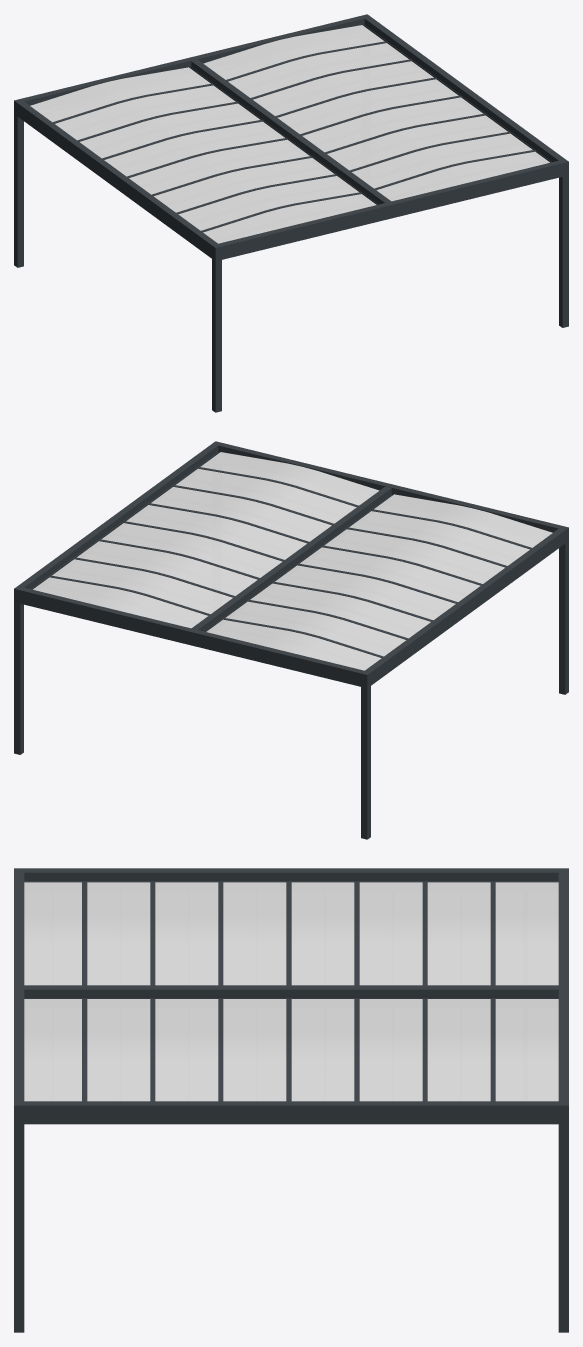
Rendered from hyrcaryaad-h24-w54-d53_matdarkgrey.fbx.
3 renders of one model, top to bottom at view 1: azimuth 30°, elevation 25°; view 2: azimuth 150°, elevation 25°; view 3: azimuth 270°, elevation 25°, orthographic. The views are drawn at different scales.
Parts seen in each view (by area): view 1: hyrcaryaad-h24-w54-d53-matdarkgray; view 2: hyrcaryaad-h24-w54-d53-matdarkgray; view 3: hyrcaryaad-h24-w54-d53-matdarkgray.
Part boxes in pixels (x1=…): hyrcaryaad-h24-w54-d53-matdarkgray: x1=14, y1=14, x2=568, y2=412; hyrcaryaad-h24-w54-d53-matdarkgray: x1=14, y1=441, x2=568, y2=839; hyrcaryaad-h24-w54-d53-matdarkgray: x1=14, y1=868, x2=568, y2=1332.
Size of the model in its own units: 550 by 245 by 543.
2 materials, 1 textured.
